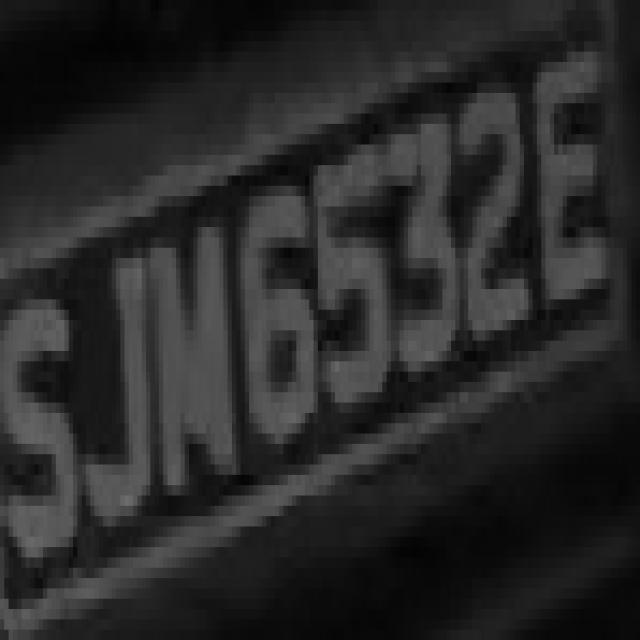2: (442, 72, 524, 403)
3: (386, 93, 459, 423)
5: (309, 124, 391, 444)
6: (232, 165, 314, 485)
E: (524, 62, 623, 361)
J: (82, 206, 159, 526)
M: (146, 165, 236, 516)
S: (13, 237, 86, 588)
